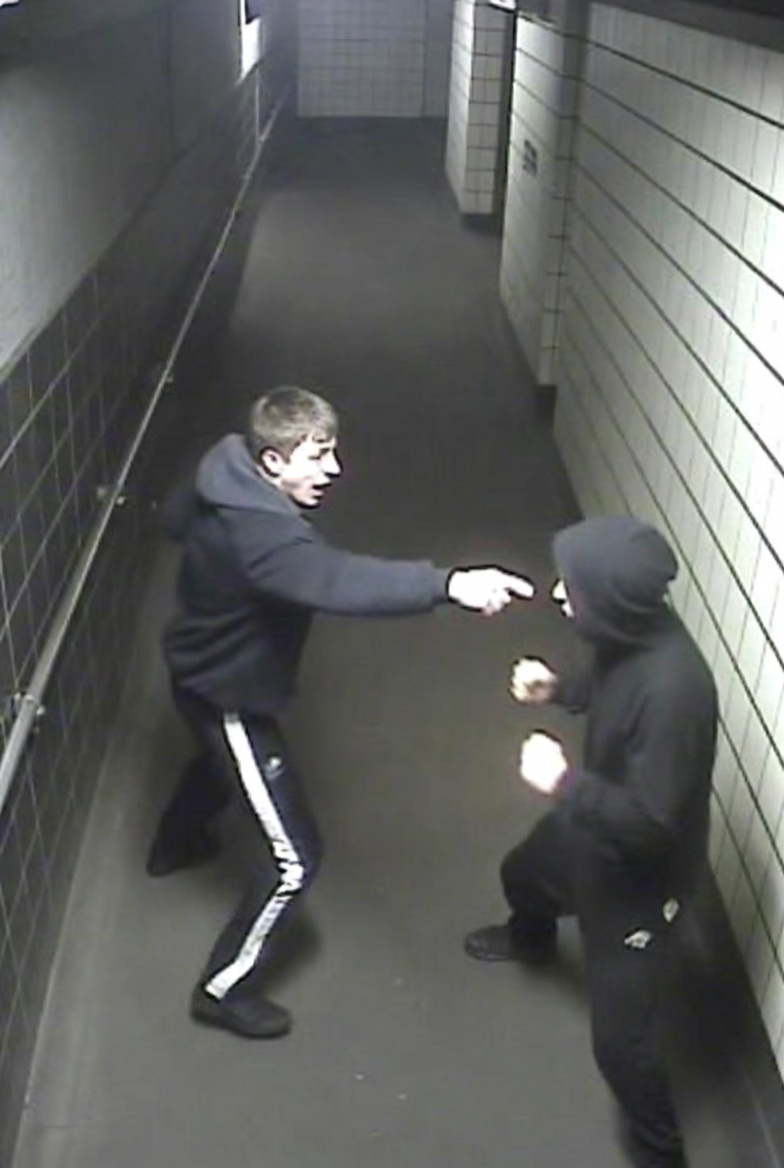Assault: (462, 514, 784, 1168)
Fighting: (145, 385, 536, 1041)
